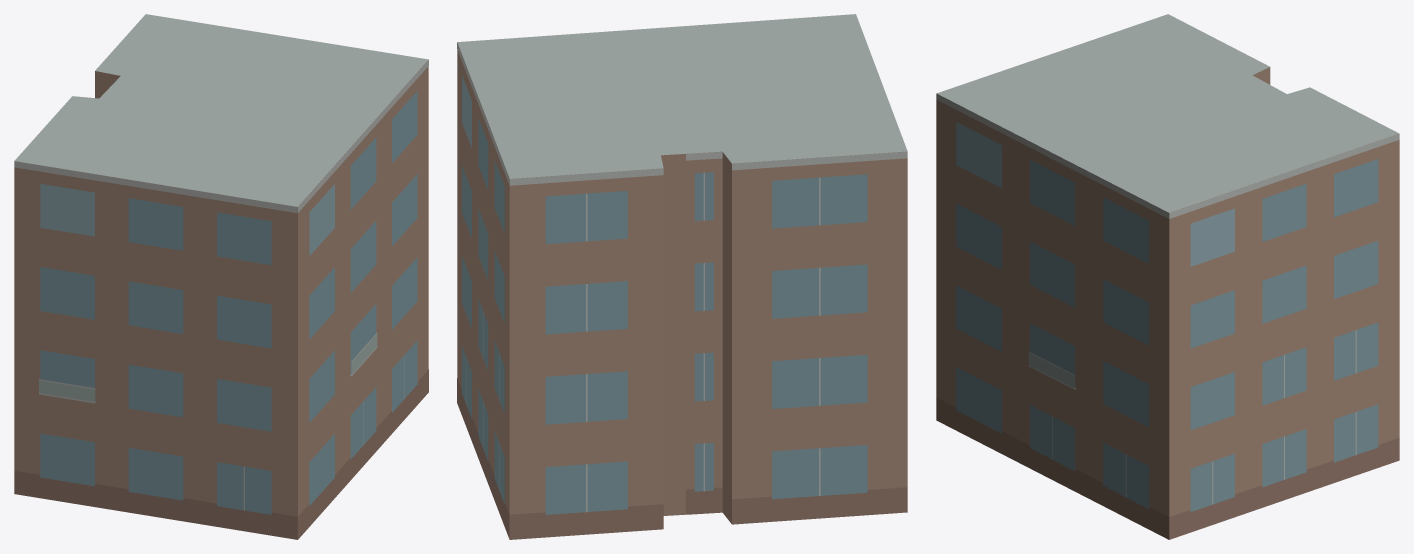
Rendered from survey-upis-32744303.glb.
3 views of the same model, side by side, from view 1: azimuth 30°, elevation 25°; view 2: azimuth 150°, elevation 25°; view 3: azimuth 270°, elevation 25° (orthographic). The views are drawn at different scales.
Visible parts, largest first — view 1: survey-upis-32744303.tmp; view 2: survey-upis-32744303.tmp; view 3: survey-upis-32744303.tmp.
Part boxes in pixels (x1,y1,x2,y2): survey-upis-32744303.tmp: (14, 14, 428, 539); survey-upis-32744303.tmp: (457, 14, 907, 539); survey-upis-32744303.tmp: (936, 14, 1399, 539).
Size of the model in its own units: 16.86 by 12.91 by 16.58.
